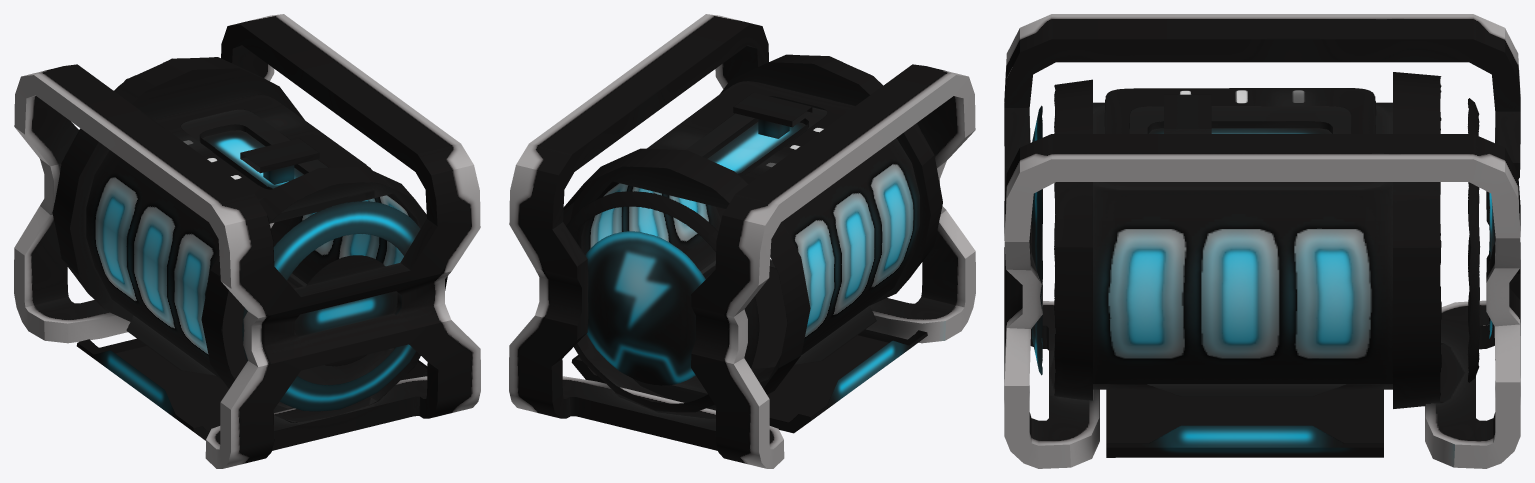
File: obj_interactive_electricengine_05_on.fbx
3 views of the same model, side by side, from view 1: azimuth 30°, elevation 25°; view 2: azimuth 150°, elevation 25°; view 3: azimuth 270°, elevation 25° (orthographic). The views are drawn at different scales.
Parts seen in each view (by area): view 1: obj_interactive_electricengine_05_on; view 2: obj_interactive_electricengine_05_on; view 3: obj_interactive_electricengine_05_on.
Part boxes in pixels (x1,y1,x2,y2): obj_interactive_electricengine_05_on: [14, 14, 480, 468]; obj_interactive_electricengine_05_on: [509, 14, 975, 468]; obj_interactive_electricengine_05_on: [1004, 14, 1520, 468].
Size of the model in its own units: 2 by 2.06 by 3.
